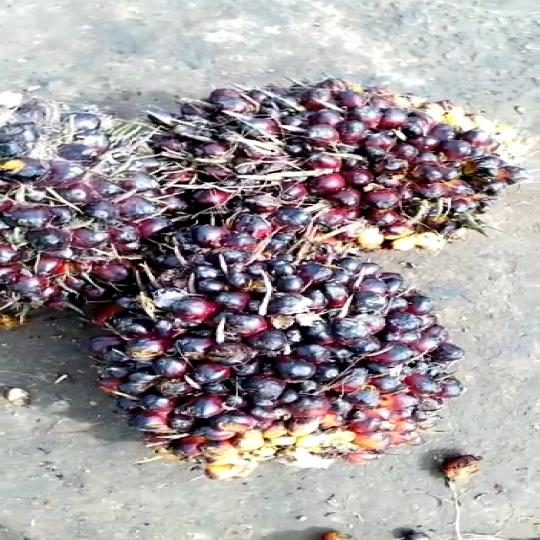kurang masak: (50, 231, 449, 478), (142, 73, 520, 260), (0, 102, 205, 351)
